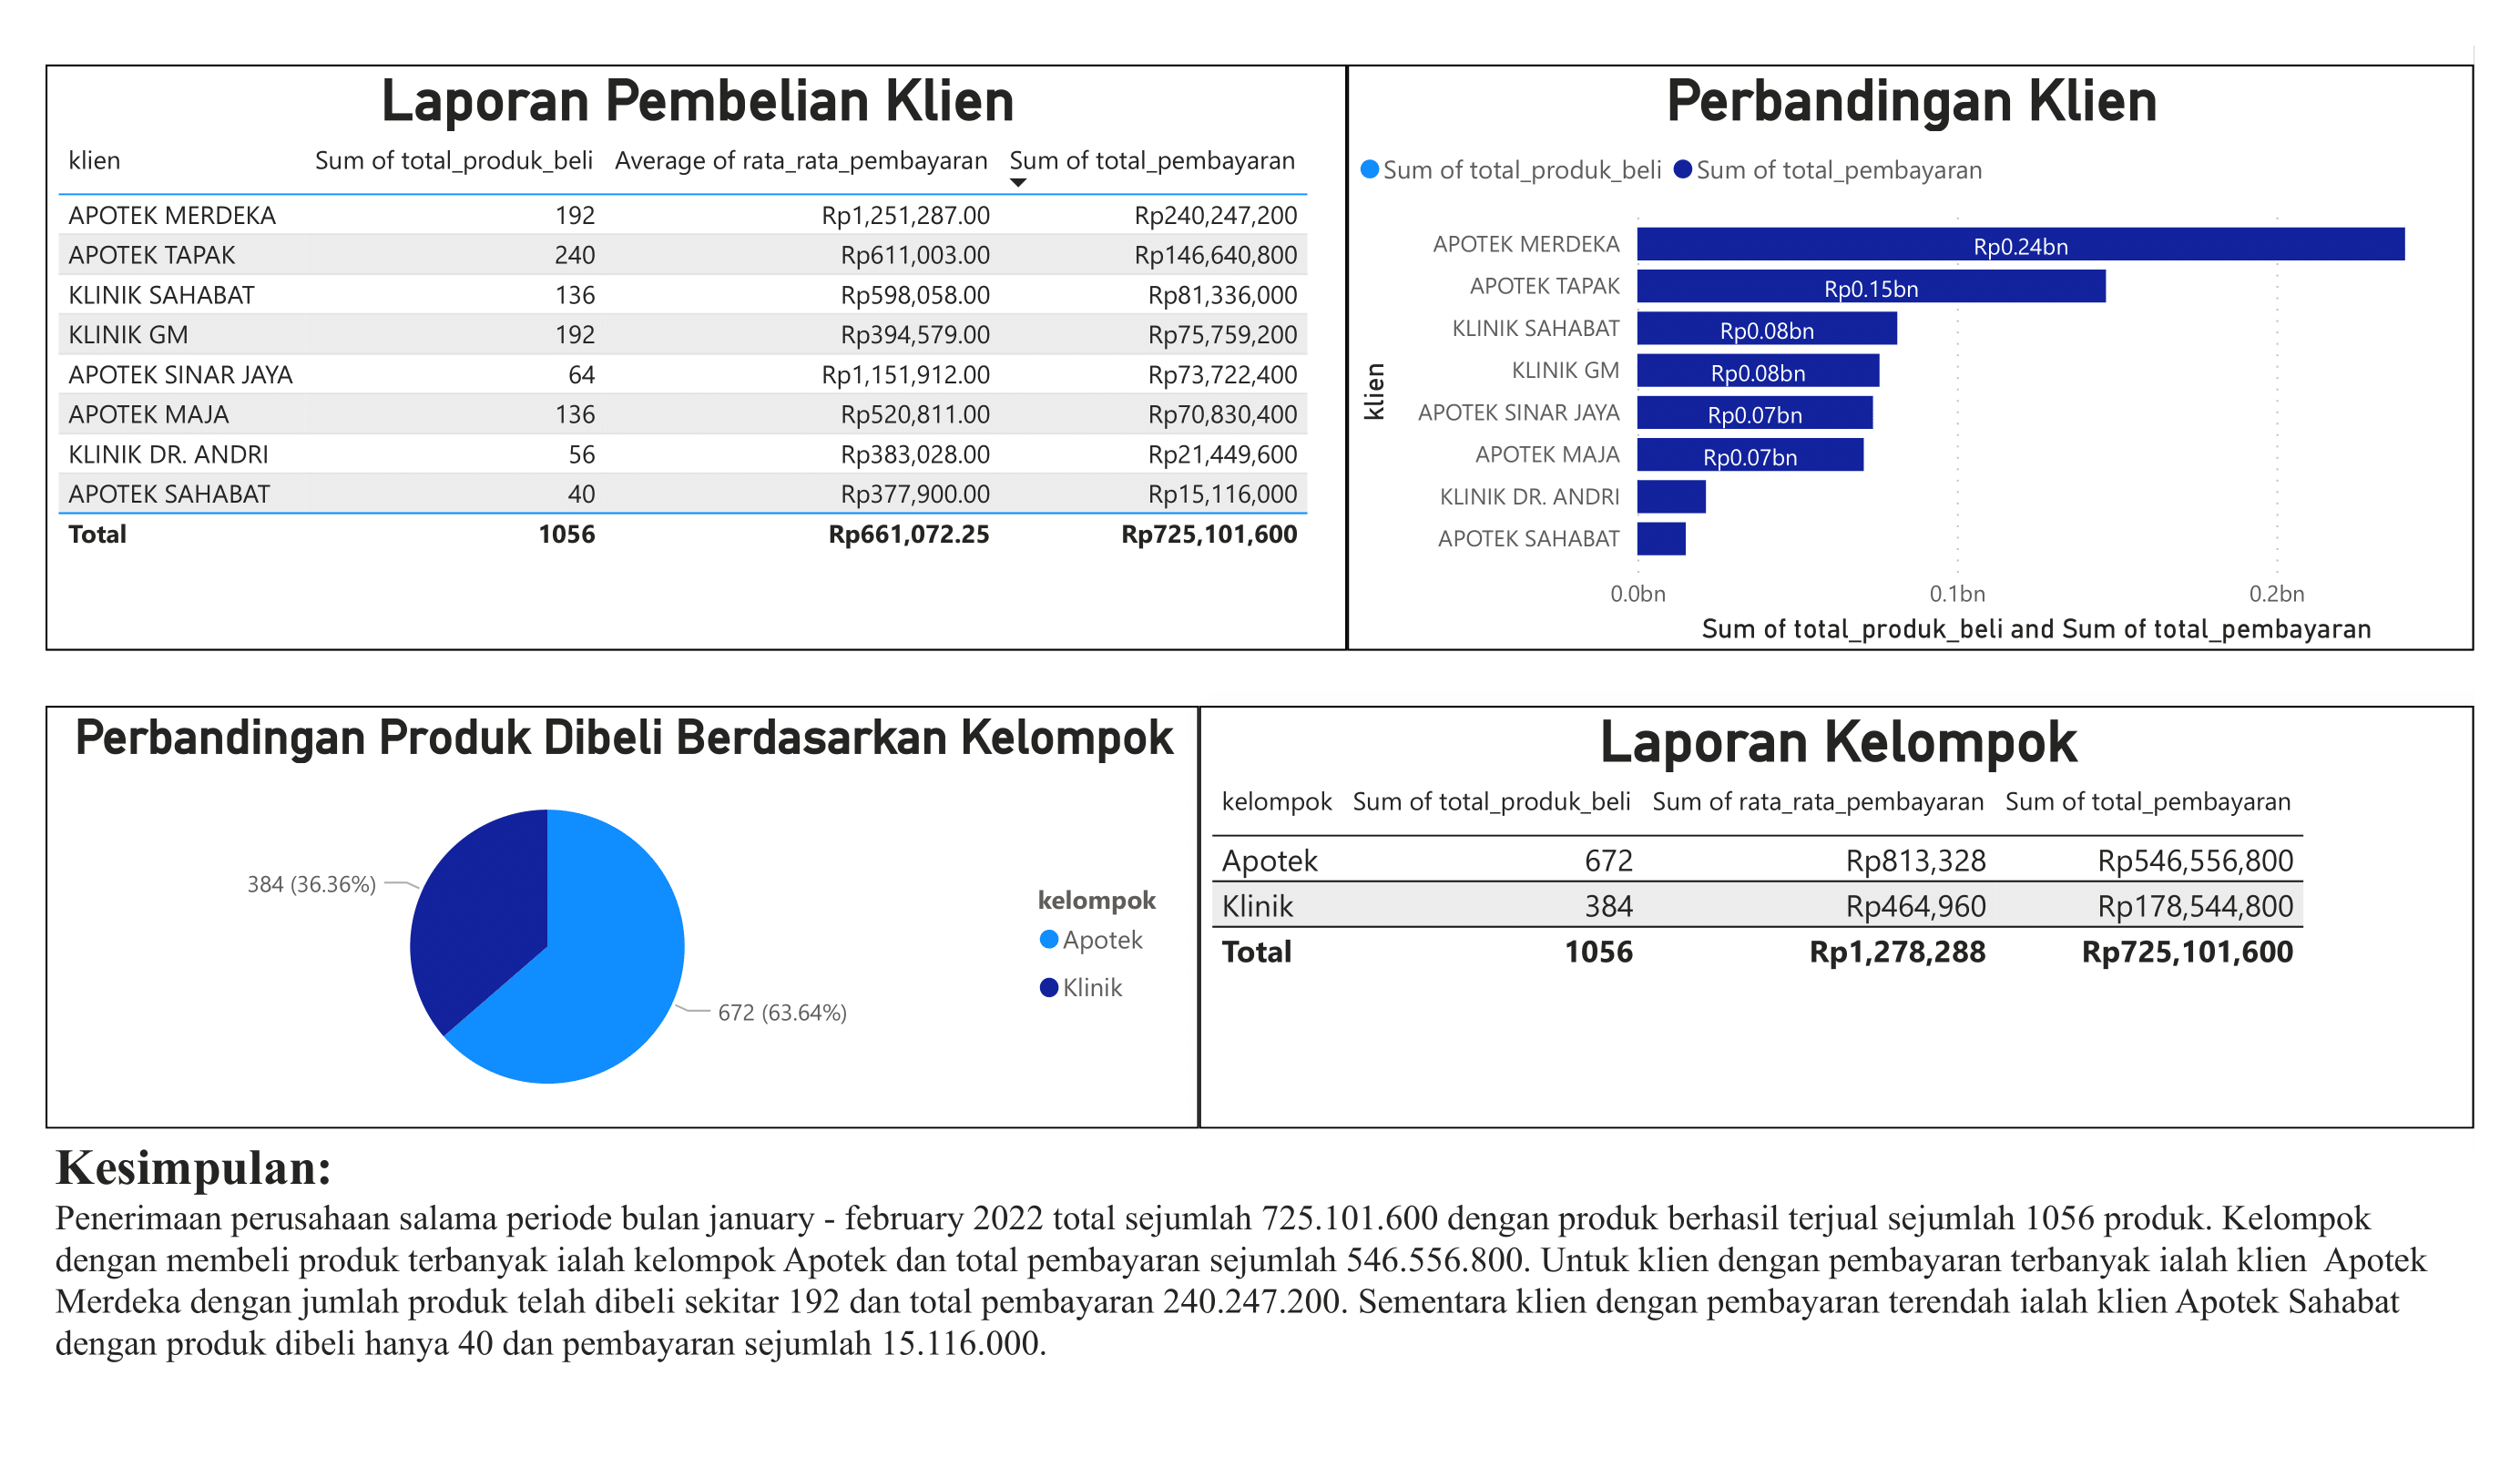

The dashboard page shown, as its layout file describes it:
{"tool":"powerbi","page":{"name":"Analisa Klien","canvas":[1280,720],"ordinal":0},"visuals":[{"type":"tableEx","title":"Laporan Pembelian Klien ","fields":{"Values":["fk_klien_2.klien","fk_klien_2.total_produk_beli","fk_klien_2.rata_rata_pembayaran","fk_klien_2.total_pembayaran"]},"box":[0,9.7,686,309],"z":0},{"type":"barChart","title":"Perbandingan Klien","fields":{"Category":["fk_klien_2.klien"],"Y":["fk_klien_2.total_produk_beli","fk_klien_2.total_pembayaran"]},"box":[686,10,594,309],"z":1000},{"type":"textbox","box":[12.9,505.1,323.9,65.5],"z":2000},{"type":"pieChart","title":"Perbandingan Produk Dibeli Berdasarkan Kelompok","fields":{"Category":["fk_perbandingan_klien.kelompok"],"Y":["fk_perbandingan_klien.total_produk_beli"]},"box":[0,348.3,607.9,222.3],"z":3000},{"type":"tableEx","title":"Laporan Kelompok","fields":{"Values":["fk_perbandingan_klien.kelompok","fk_perbandingan_klien.total_produk_beli","fk_perbandingan_klien.rata_rata_pembayaran","fk_perbandingan_klien.total_pembayaran"]},"box":[608,348,672,223],"z":4000},{"type":"textbox","box":[0,570.6,1280,149.1],"z":5000}]}

Visuals, with their boxes on the page's 1280x720 design canvas (x1, y1, x2, y2). These are canvas units, not pixel positions in the 2520x1457 screenshot, which may show the page scaled, cropped or inside an application window:
"Laporan Pembelian Klien " tableEx: bbox=[0, 10, 686, 319]
"Perbandingan Klien" barChart: bbox=[686, 10, 1280, 319]
textbox: bbox=[13, 505, 337, 571]
"Perbandingan Produk Dibeli Berdasarkan Kelompok" pieChart: bbox=[0, 348, 608, 571]
"Laporan Kelompok" tableEx: bbox=[608, 348, 1280, 571]
textbox: bbox=[0, 571, 1280, 720]
